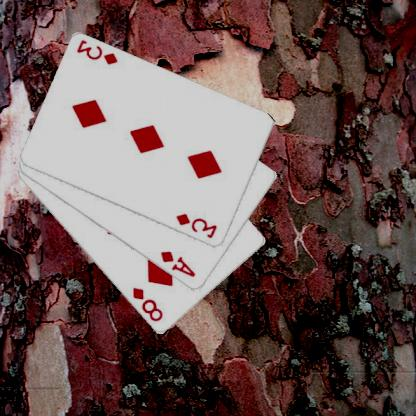3D: (175, 210, 221, 240), (76, 37, 122, 67)
8D: (131, 284, 166, 324)
AD: (160, 248, 199, 279)
